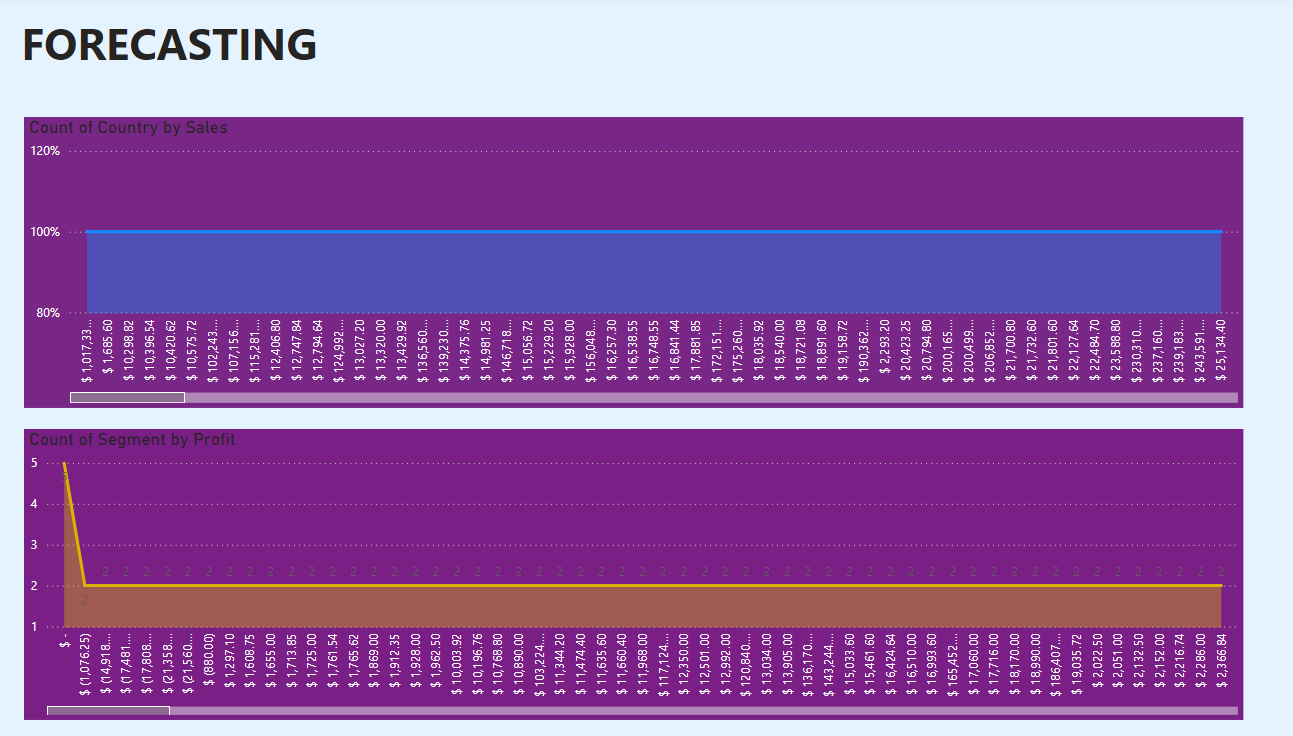

This screenshot's page, from the dashboard's own definition file:
{"tool":"powerbi","page":{"name":"Page 2","canvas":[1280,720],"ordinal":1},"visuals":[{"type":"hundredPercentStackedAreaChart","fields":{"Category":["Financial Sample (2).  Sales "],"Y":["CountNonNull(Financial Sample (2).Country)"]},"box":[28.2,116.7,1185.7,283],"z":0},{"type":"lineChart","fields":{"Category":["Financial Sample (2). Profit "],"Y":["CountNonNull(Financial Sample (2).Segment)"]},"box":[28.2,420.2,1185.7,283],"z":1},{"type":"textbox","box":[20.4,10.7,811.2,70],"z":2}]}

Visuals, with their boxes in screenshot pixels (x1, y1, x2, y2), scaled from the page's 1280x720 canvas onto the 1293x736 screenshot:
hundredPercentStackedAreaChart - Financial Sample (2).  Sales  x CountNonNull(Financial Sample (2).Country): crop(28, 119, 1226, 409)
lineChart - Financial Sample (2). Profit  x CountNonNull(Financial Sample (2).Segment): crop(28, 430, 1226, 719)
textbox: crop(21, 11, 840, 82)
